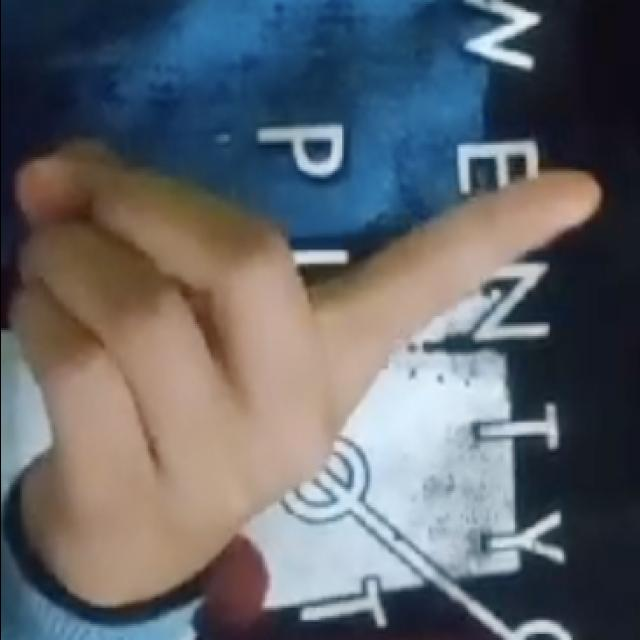Z: (9, 128, 609, 574)
